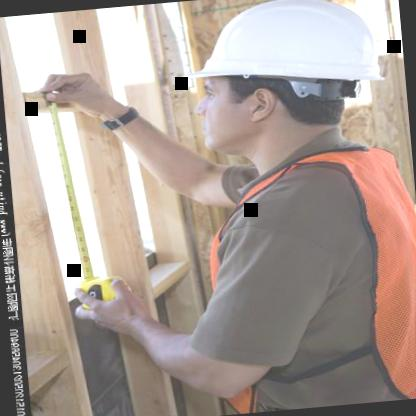helmet: (176, 0, 397, 169)
